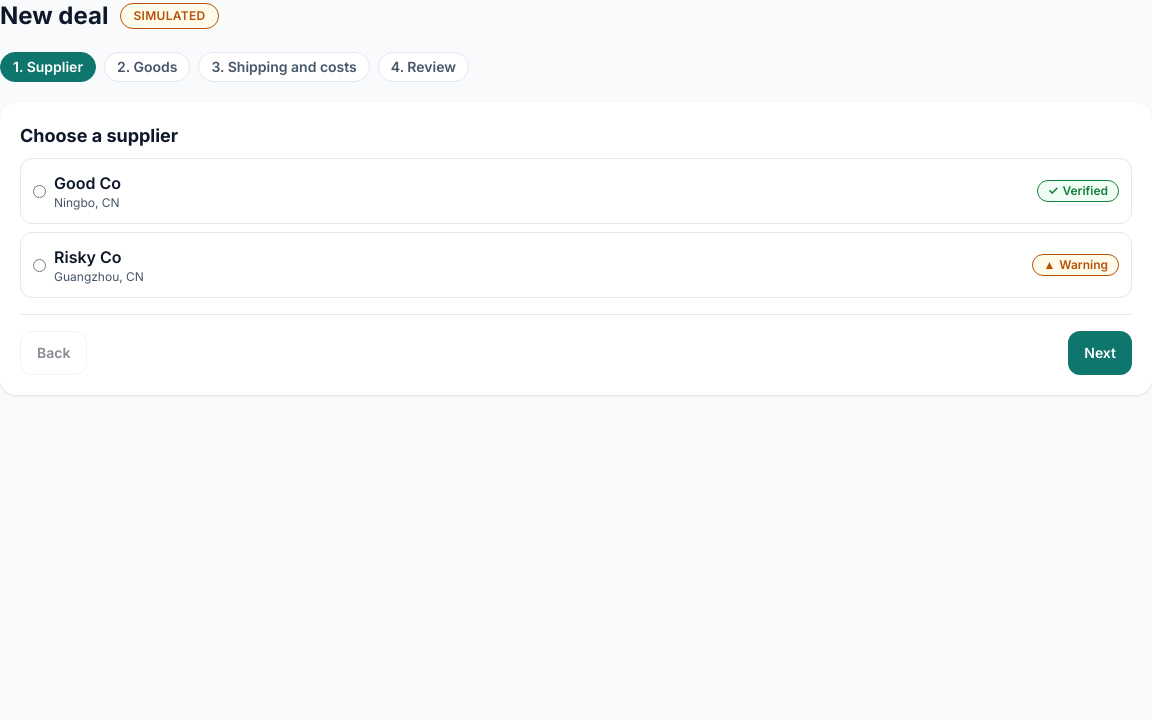
Test case: NewDealPage › asks for confirmation before choosing a supplier with a warning
Click the radio button labelled "Risky Co Guangzhou, CN ▲ Warning": (40, 265) top-left (33, 258), bottom-right (46, 272)
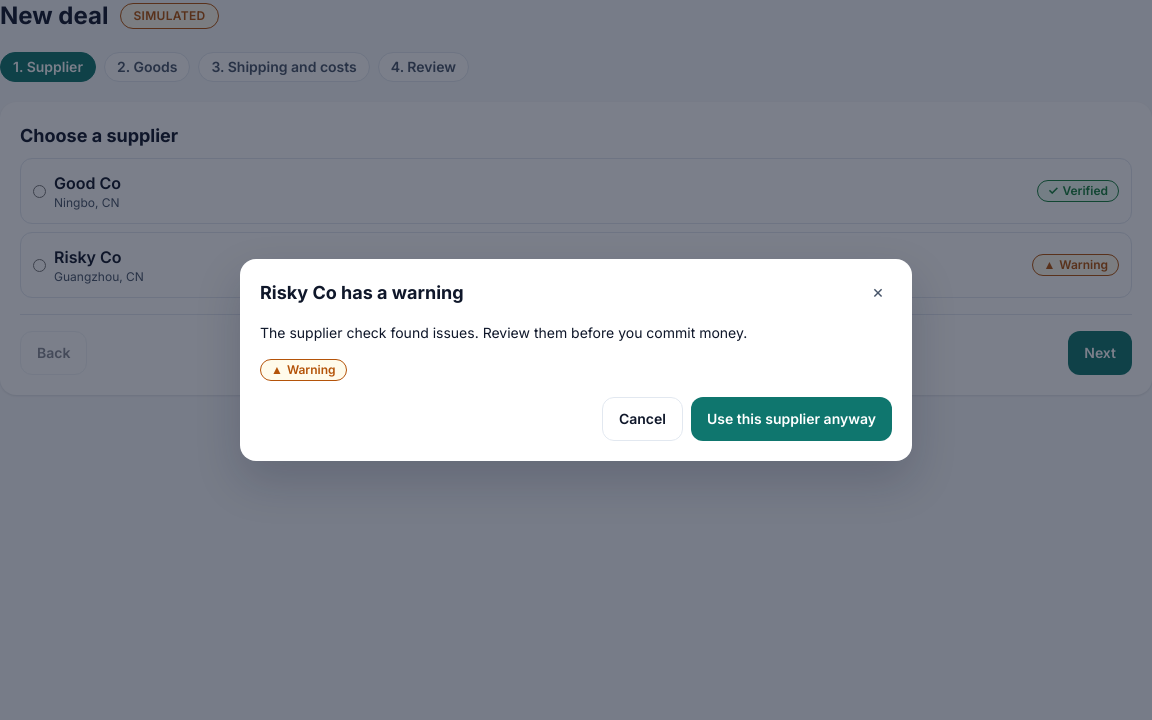
Now the dialog "Risky Co has a warning" is shown, box top-left (240, 259), bottom-right (912, 461)
Click the button "Use this supplier anyway": (792, 419) top-left (691, 397), bottom-right (892, 441)
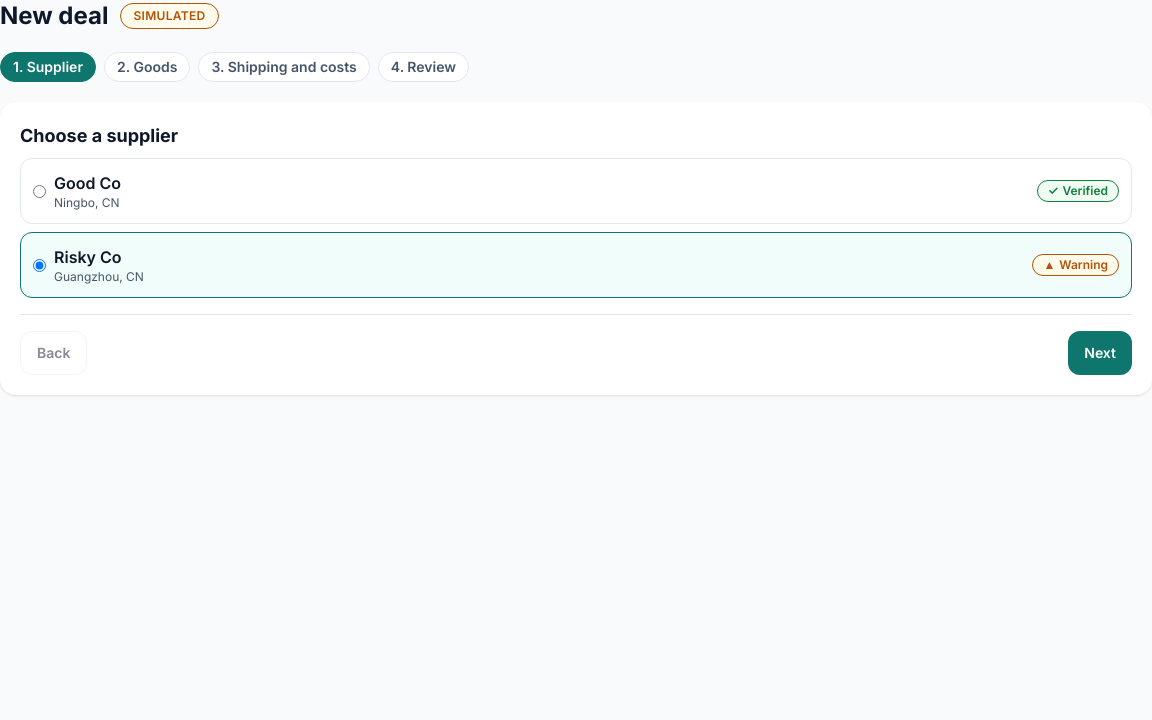
Now the radio button labelled "Risky Co Guangzhou, CN ▲ Warning" is checked, box top-left (33, 258), bottom-right (46, 272)
Now the dialog is gone
